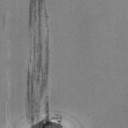slag inclusion: (25, 0, 64, 128)
